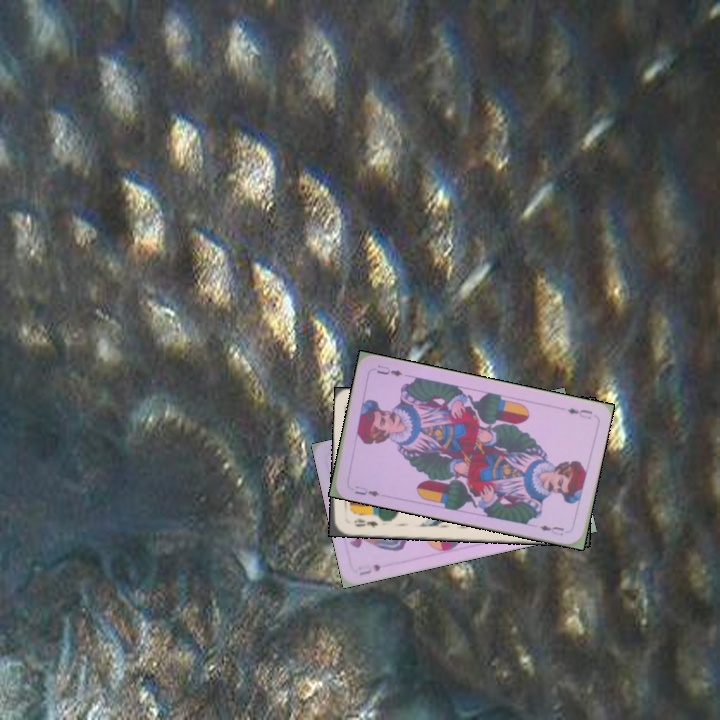EO: (350, 515, 380, 530)
EU: (563, 404, 595, 422), (351, 481, 382, 499)
SU: (355, 560, 384, 578)
